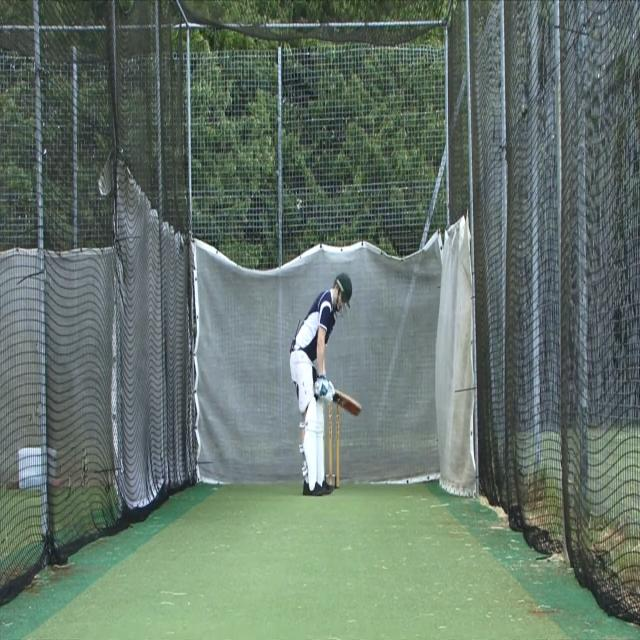batsman: (288, 271, 364, 498)
